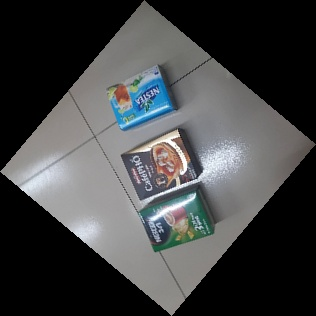CF pho: (119, 130, 200, 201)
Nes Rang: (136, 186, 216, 253)
Nestea: (107, 64, 178, 131)
